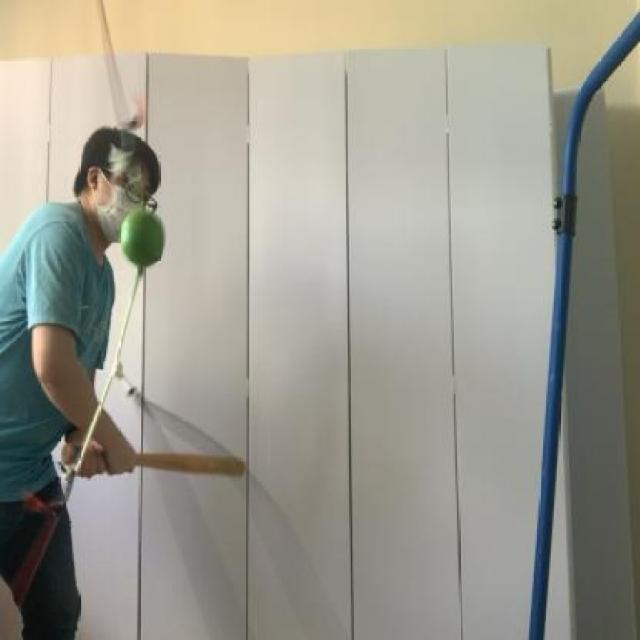baseball: (116, 200, 170, 271)
